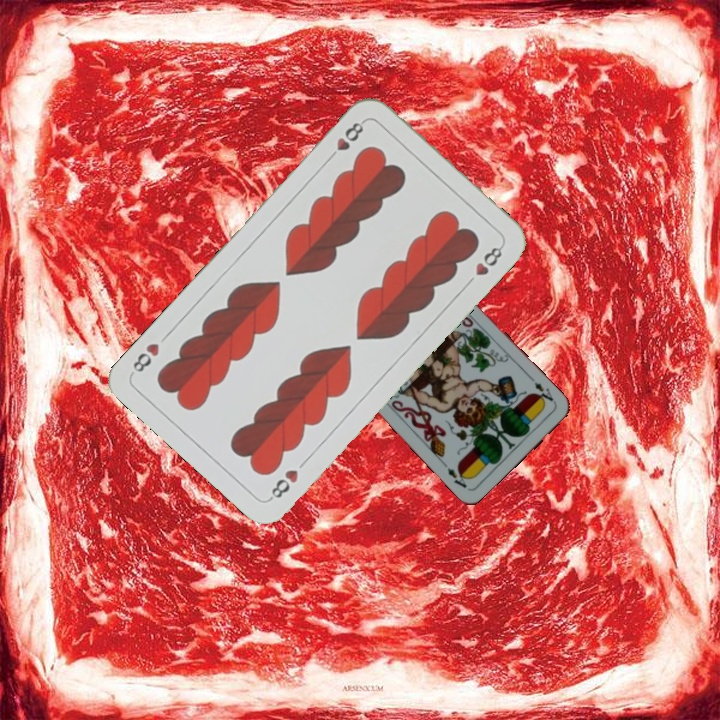EA: (530, 378, 559, 407)
H8: (323, 116, 368, 164), (264, 465, 301, 503)
